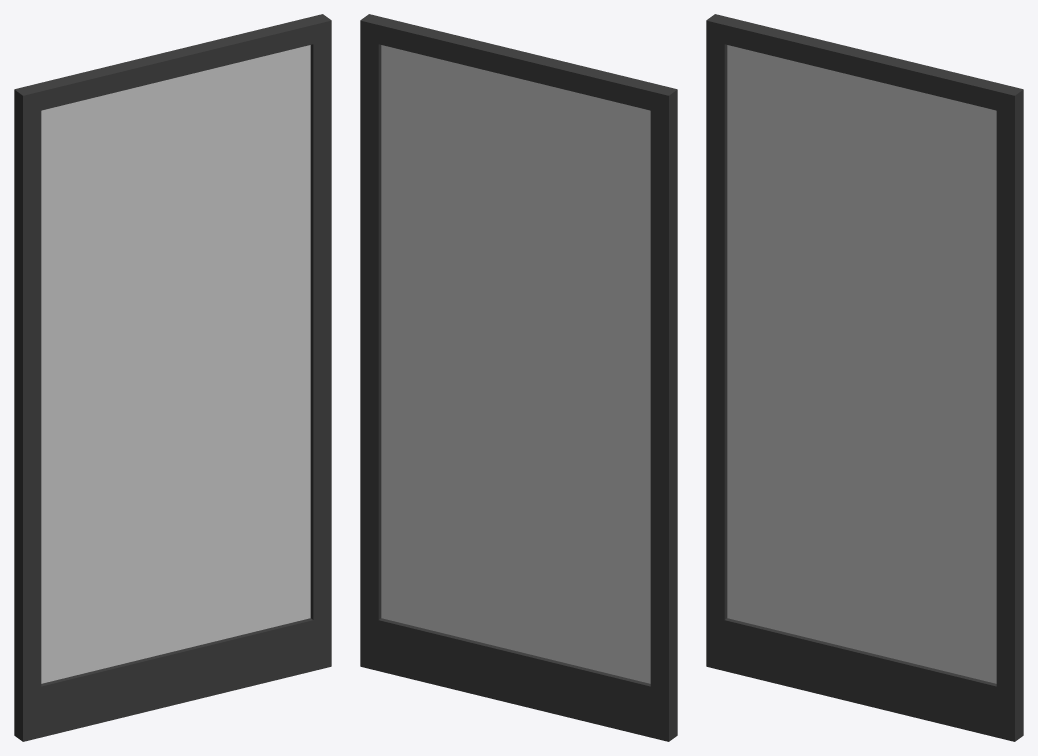
File: wall_022.fbx
3 renders of one model, left to right at view 1: azimuth 30°, elevation 25°; view 2: azimuth 150°, elevation 25°; view 3: azimuth 330°, elevation 25°, orthographic.
Visible parts, largest first — view 1: wall_022; view 2: wall_022; view 3: wall_022.
Part boxes in pixels (bbox=[...]): wall_022: bbox=[14, 14, 331, 741]; wall_022: bbox=[360, 14, 677, 741]; wall_022: bbox=[706, 14, 1023, 741].
Size of the model in its own units: 200 by 10 by 400.
